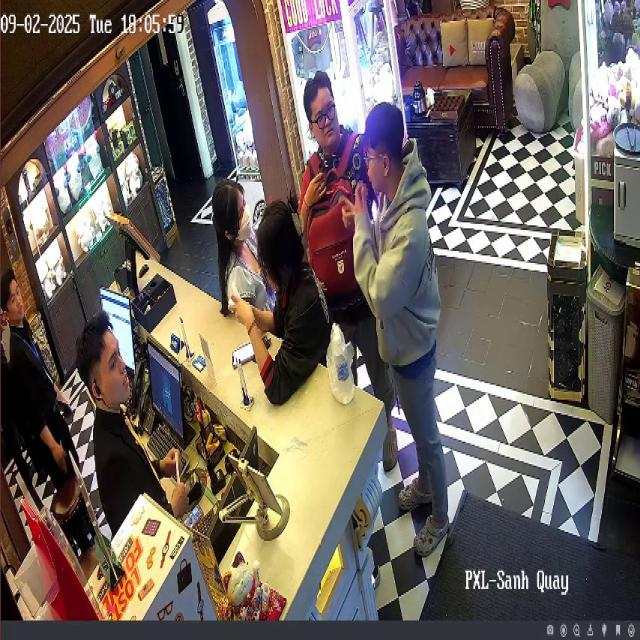khach: (350, 90, 474, 564), (291, 63, 382, 364), (255, 183, 340, 428), (204, 163, 270, 345)
nhan vien: (0, 256, 78, 543), (75, 306, 164, 531)
